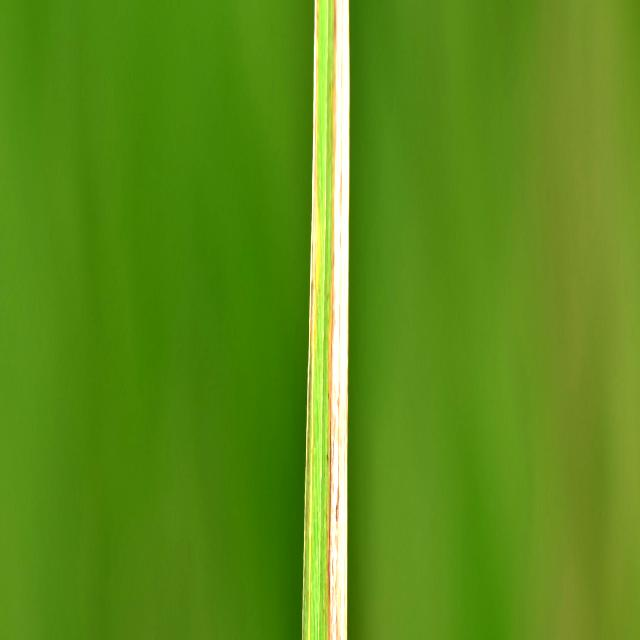BLB: (327, 5, 349, 640)
